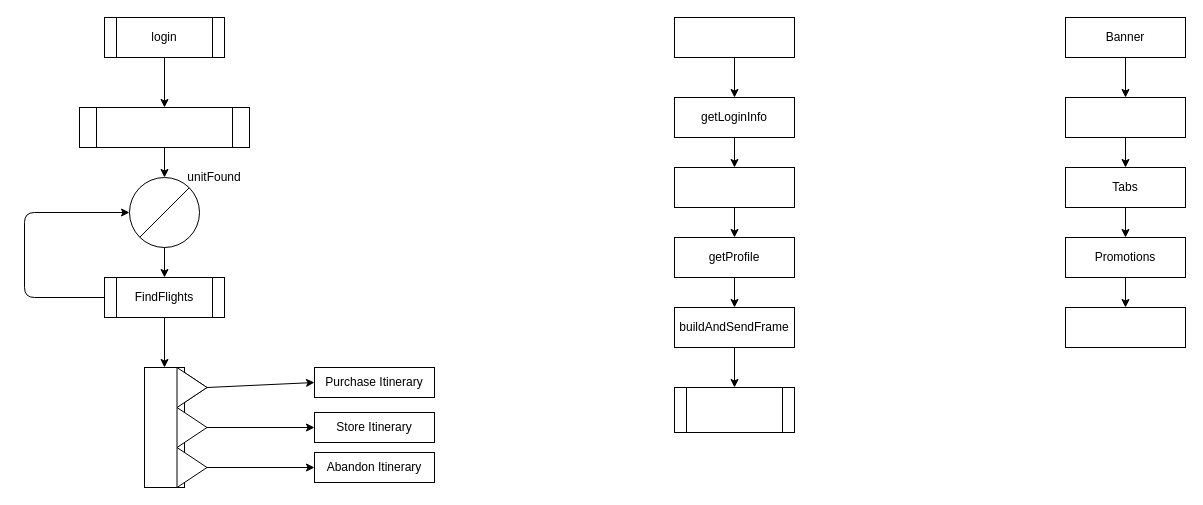
This 1203x505 diagram has some shape labels left out. Here are the shapes that lost their labels. From the top down, the centre of each, then its label:
At [734,37]: "getPage".
At [164,127]: "getFlightPlanningPage".
At [1125,117]: "Navigation".
At [734,187]: "authentication".
At [1125,327]: "Account Status".
At [734,409]: "Complete page".
